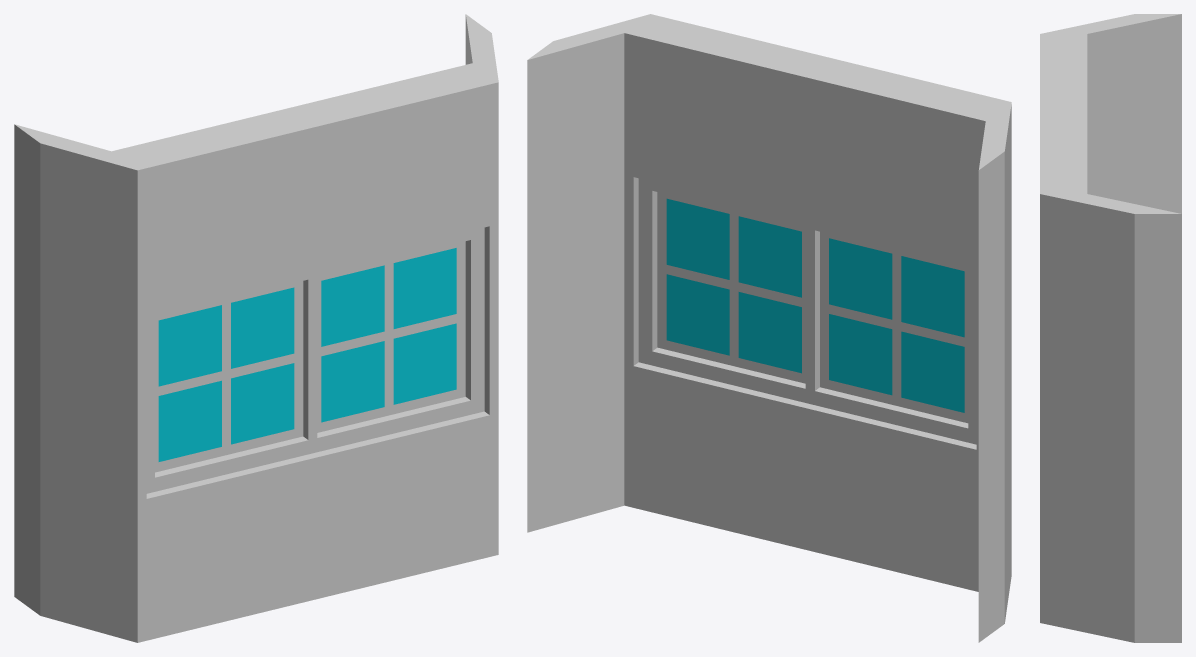
The model's file is window_bay_2.glb.
The picture shows the model from 3 angles, left to right: view 1: azimuth 30°, elevation 25°; view 2: azimuth 150°, elevation 25°; view 3: azimuth 270°, elevation 25°; orthographic projection. The views are drawn at different scales.
Visible parts, largest first — view 1: window_bay_2; view 2: window_bay_2; view 3: window_bay_2.
Part boxes in pixels (<box>): window_bay_2: <box>14,14,498,642</box>; window_bay_2: <box>527,14,1011,642</box>; window_bay_2: <box>1040,14,1181,642</box>.
Bounding box in the file's own units: 1 × 1 × 0.3.
